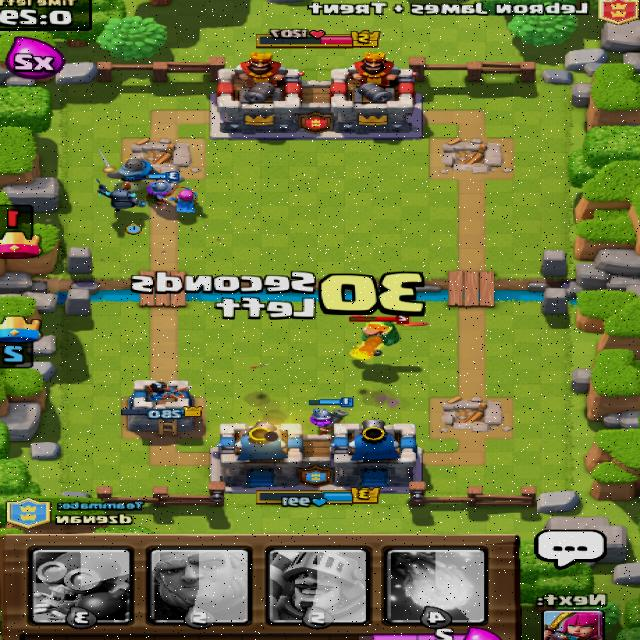Enemy-BabyDragon: (351, 313, 431, 347)
Player-Archer: (171, 183, 202, 215)
Player-Knight: (99, 150, 160, 182)
Player-MiniPEKKA: (96, 178, 147, 213)
Player-Musketeer: (308, 396, 356, 434), (146, 170, 187, 209)
